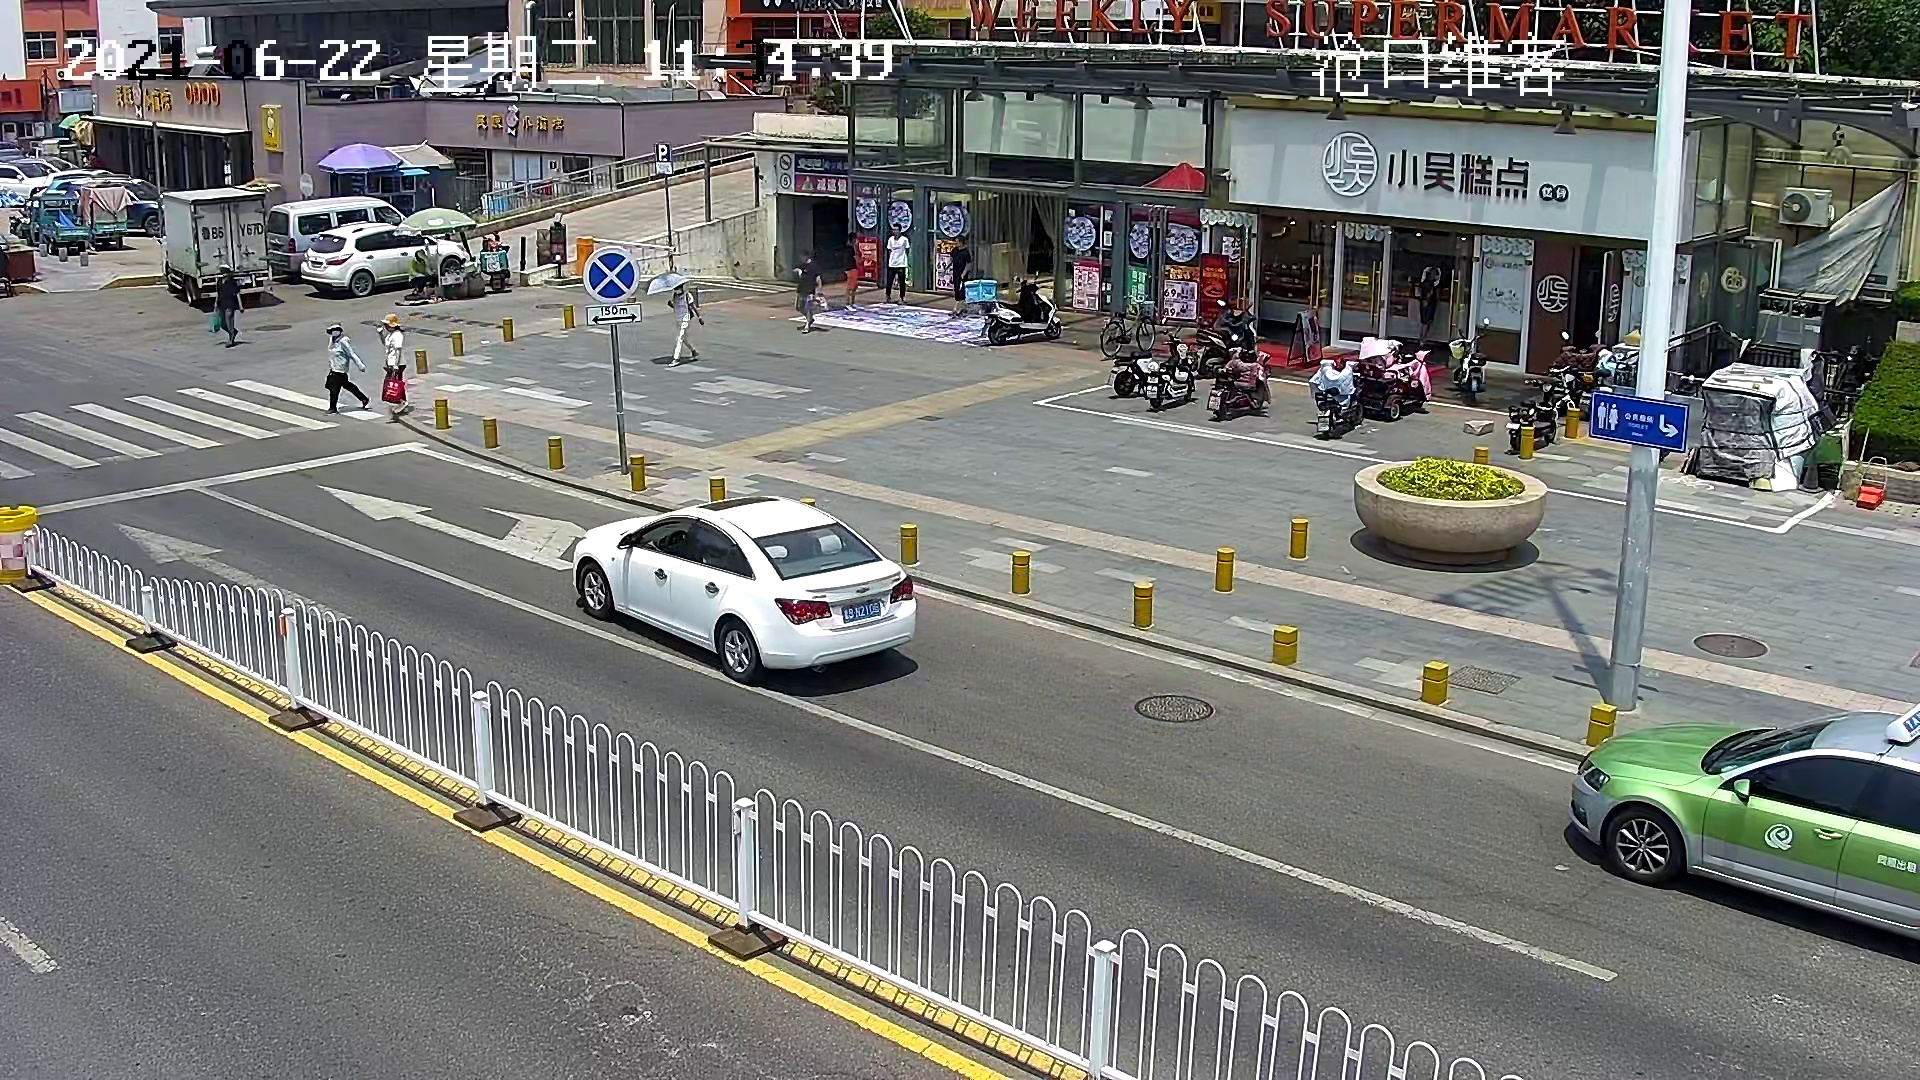umbrella: (392, 206, 477, 237), (315, 142, 404, 173)
